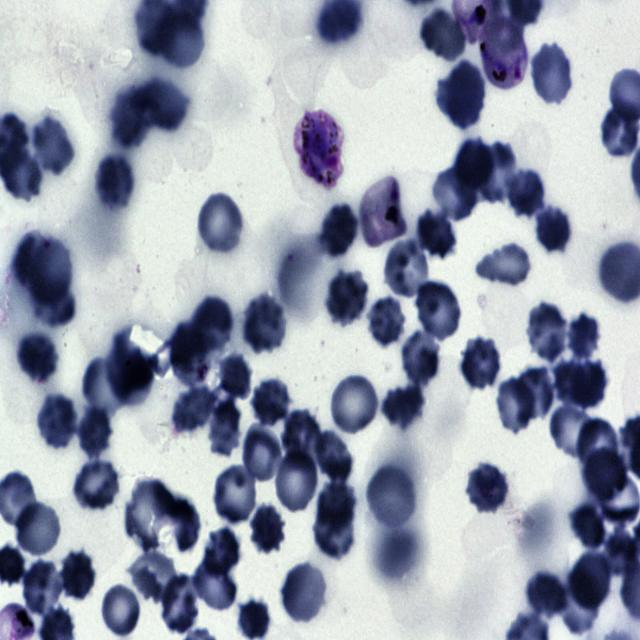difficult: (294, 106, 344, 188)
red blood cell: (365, 465, 418, 532), (125, 480, 174, 552), (107, 336, 153, 410), (328, 371, 380, 436), (196, 190, 247, 256), (436, 65, 484, 131), (27, 236, 72, 306), (81, 357, 130, 421), (381, 239, 432, 300), (276, 446, 322, 513), (212, 462, 260, 526), (156, 6, 204, 70), (280, 563, 328, 625), (415, 280, 463, 342), (475, 141, 520, 206), (550, 402, 602, 458), (530, 42, 574, 108), (170, 320, 214, 386), (29, 115, 75, 178), (13, 499, 62, 558), (430, 164, 479, 223), (569, 548, 614, 612), (134, 80, 188, 131), (72, 457, 122, 512), (158, 575, 202, 637), (476, 244, 534, 291), (186, 296, 234, 352), (242, 297, 288, 355), (28, 272, 77, 326), (582, 447, 630, 502), (420, 7, 467, 63), (325, 268, 370, 326), (112, 86, 154, 148), (128, 548, 176, 602), (241, 424, 284, 484), (94, 151, 136, 212), (526, 303, 568, 363), (560, 572, 600, 635), (21, 561, 64, 619), (14, 333, 60, 387), (459, 336, 503, 392), (576, 418, 620, 474), (495, 375, 536, 435), (35, 394, 78, 451), (192, 559, 238, 612), (204, 399, 243, 460), (318, 203, 360, 259), (281, 410, 323, 466), (596, 472, 640, 525), (312, 506, 355, 560), (505, 167, 548, 220), (532, 202, 574, 256), (524, 569, 568, 620), (366, 296, 408, 349), (75, 404, 116, 458), (400, 330, 440, 385), (99, 585, 142, 636), (380, 382, 426, 429), (247, 502, 287, 556), (58, 549, 97, 604), (172, 385, 214, 436), (312, 431, 354, 482), (250, 378, 292, 428), (452, 138, 494, 188), (468, 462, 510, 511), (551, 357, 593, 406), (600, 107, 640, 158), (414, 210, 456, 258), (518, 368, 556, 421), (216, 352, 255, 402), (570, 358, 609, 408), (566, 312, 604, 363), (200, 531, 241, 576), (318, 484, 358, 527), (570, 504, 605, 552), (237, 597, 271, 639)
trophozoite: (478, 16, 529, 90), (358, 175, 407, 246), (451, 0, 504, 44)
